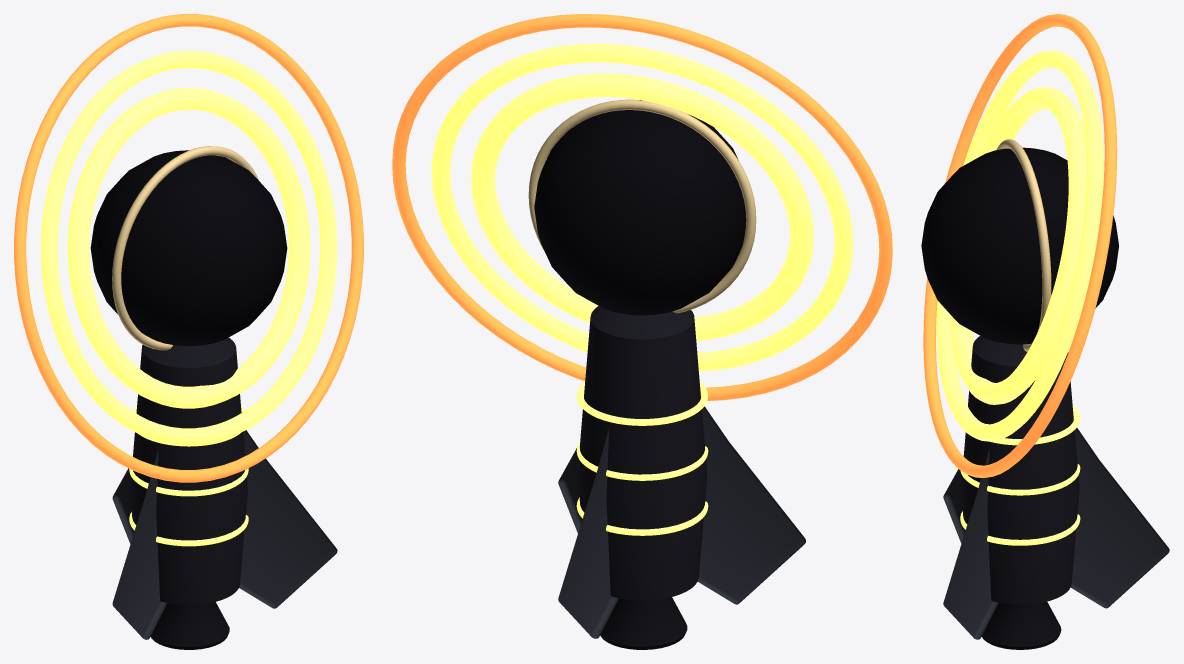
The model's file is Rocket_38_BlackHole.fbx.
The picture shows the model from 3 angles, left to right: view 1: azimuth 30°, elevation 25°; view 2: azimuth 150°, elevation 25°; view 3: azimuth 270°, elevation 25°; orthographic projection. The views are drawn at different scales.
Visible parts, largest first — view 1: R38_Singularity, R38_Body, R38_AccretionDisk_2, R38_AccretionDisk, R38_AccretionDisk_3, R38_Fin_3, R38_Fin_2, R38_PhotonRing, R38_Nozzle, R38_Fin, R38_Band_2, R38_Band; view 2: R38_Singularity, R38_Body, R38_AccretionDisk_2, R38_AccretionDisk, R38_AccretionDisk_3, R38_Fin_2, R38_Fin, R38_PhotonRing, R38_Nozzle, R38_Band_3, R38_Fin_3, R38_Band_2 (+1 smaller); view 3: R38_Singularity, R38_Body, R38_AccretionDisk_2, R38_AccretionDisk_3, R38_AccretionDisk, R38_Fin, R38_Fin_3, R38_Nozzle, R38_PhotonRing, R38_Fin_2, R38_Band_2, R38_Band (+1 smaller).
Boxes of the visible parts, box(x1,y1,x2,y2) form: R38_Singularity: box(90, 150, 287, 346); R38_Body: box(130, 337, 247, 604); R38_AccretionDisk_2: box(41, 51, 336, 445); R38_AccretionDisk: box(67, 88, 310, 408); R38_AccretionDisk_3: box(14, 14, 363, 482); R38_Fin_3: box(239, 430, 337, 608); R38_Fin_2: box(112, 448, 167, 639); R38_PhotonRing: box(112, 146, 259, 350); R38_Nozzle: box(150, 602, 229, 649); R38_Fin: box(112, 468, 133, 543); R38_Band_2: box(129, 468, 248, 496); R38_Band: box(129, 512, 248, 546); R38_Singularity: box(534, 100, 746, 315); R38_Body: box(577, 306, 707, 600); R38_AccretionDisk_2: box(431, 43, 853, 371); R38_AccretionDisk: box(471, 73, 813, 341); R38_AccretionDisk_3: box(392, 14, 892, 400); R38_Fin_2: box(697, 406, 805, 604); R38_Fin: box(558, 428, 618, 638); R38_PhotonRing: box(528, 99, 756, 313); R38_Nozzle: box(600, 597, 687, 649); R38_Band_3: box(576, 381, 708, 425); R38_Fin_3: box(558, 448, 581, 533); R38_Band_2: box(576, 441, 708, 480); R38_Singularity: box(921, 147, 1118, 344); R38_Body: box(961, 336, 1079, 604); R38_AccretionDisk_2: box(936, 50, 1103, 441); R38_AccretionDisk_3: box(923, 14, 1117, 477); R38_AccretionDisk: box(950, 87, 1086, 404); R38_Fin: box(1070, 428, 1169, 608); R38_Fin_3: box(943, 447, 998, 639); R38_Nozzle: box(981, 601, 1061, 649); R38_PhotonRing: box(996, 139, 1051, 351); R38_Fin_2: box(943, 469, 964, 543); R38_Band_2: box(960, 464, 1080, 495); R38_Band: box(960, 511, 1080, 545).
Size of the model in its own units: 5.78 by 8.24 by 3.14.
